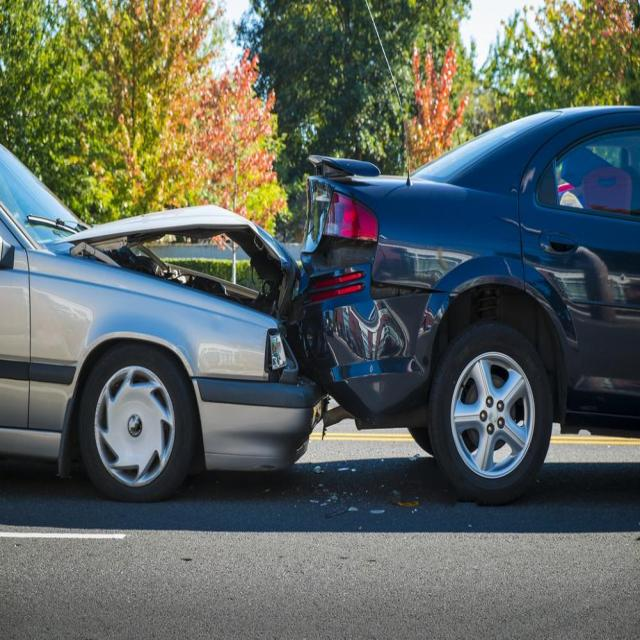crushed car: (38, 141, 596, 531)
